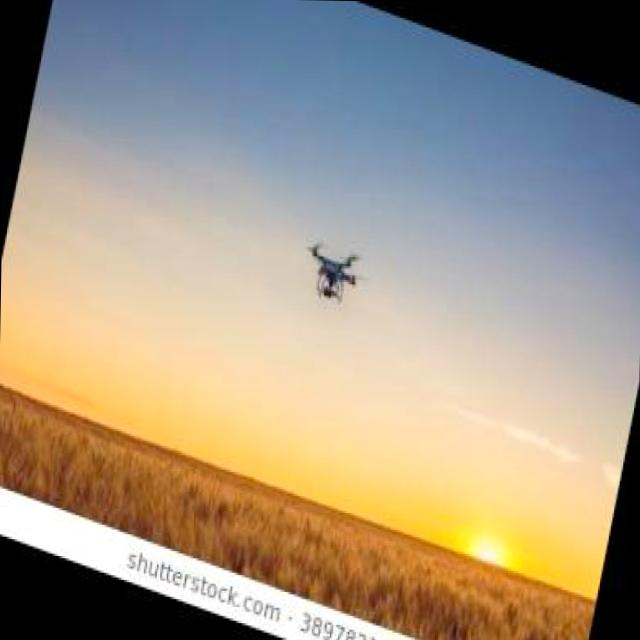drone: (302, 232, 370, 313)
